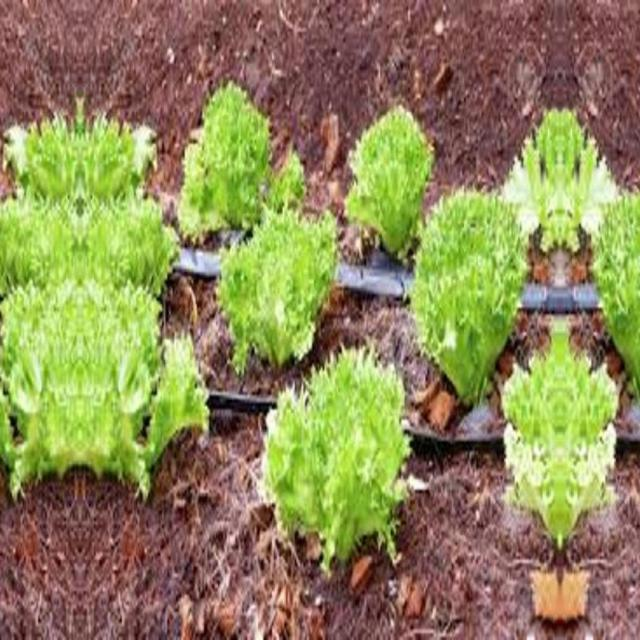healthy: (266, 342, 410, 568), (80, 278, 206, 494), (410, 183, 530, 405), (220, 206, 336, 378), (180, 72, 296, 240), (0, 278, 79, 493), (342, 96, 432, 264), (502, 332, 560, 554), (560, 332, 618, 554), (590, 183, 640, 405), (80, 194, 174, 308), (0, 193, 80, 308), (80, 94, 162, 206), (0, 93, 79, 206), (514, 108, 560, 252), (560, 108, 606, 252)
